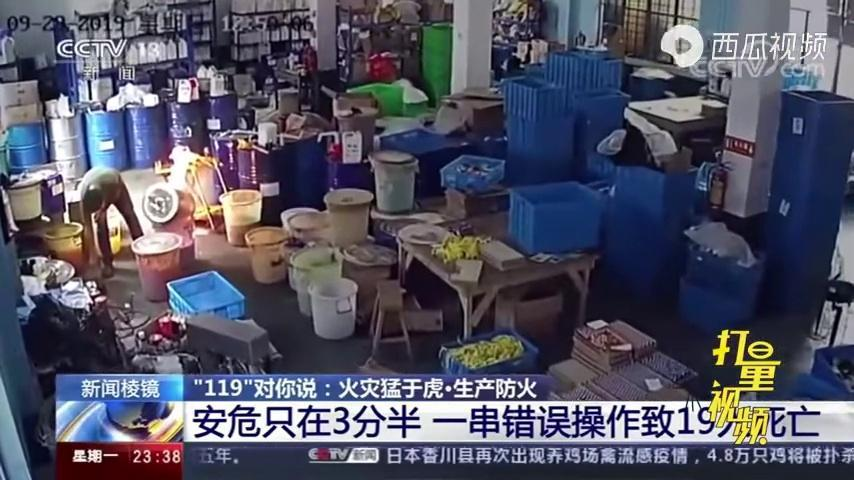fire: (150, 97, 232, 241)
